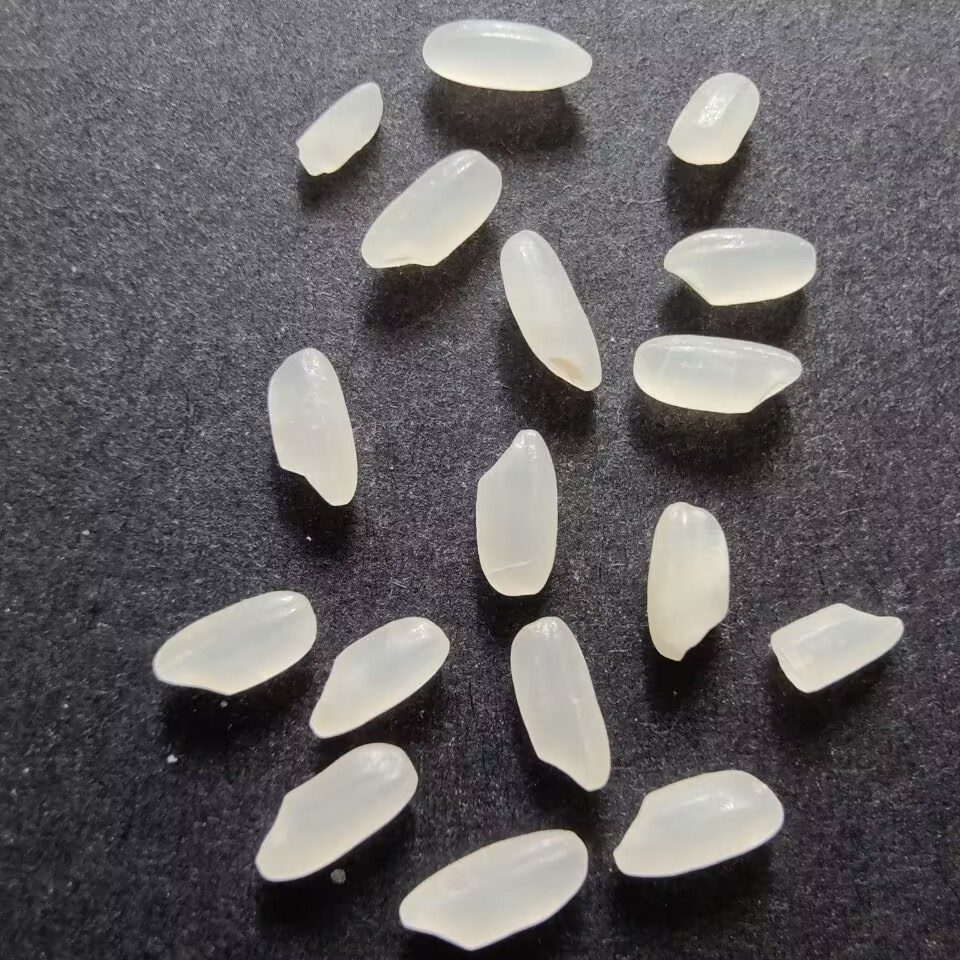broken: (766, 598, 905, 696), (294, 75, 383, 186), (665, 73, 761, 170)
rice: (394, 827, 590, 953), (252, 739, 418, 887), (611, 767, 787, 884), (149, 585, 320, 700), (506, 615, 614, 797), (355, 146, 505, 275), (499, 226, 608, 396), (306, 615, 450, 742), (473, 422, 562, 604), (263, 345, 359, 510), (630, 330, 807, 418), (644, 498, 731, 665), (419, 16, 597, 96), (657, 223, 819, 307)
